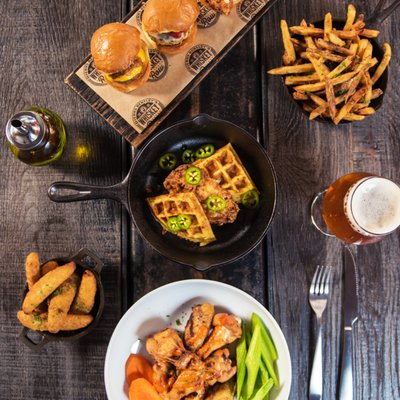pasta: (17, 248, 102, 334)
sushi: (104, 279, 293, 400)
